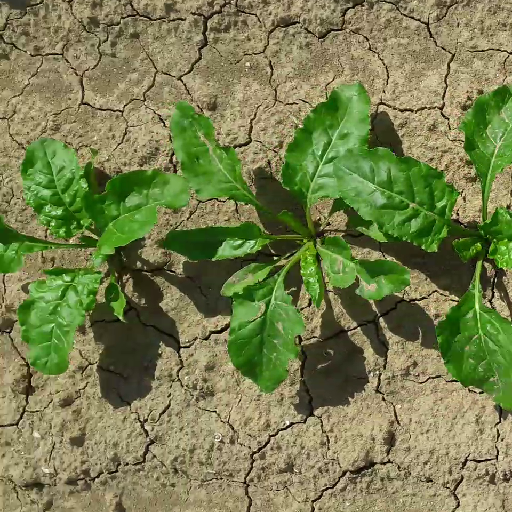sugarbeet: (148, 84, 415, 399), (325, 73, 512, 422), (1, 134, 192, 379)
